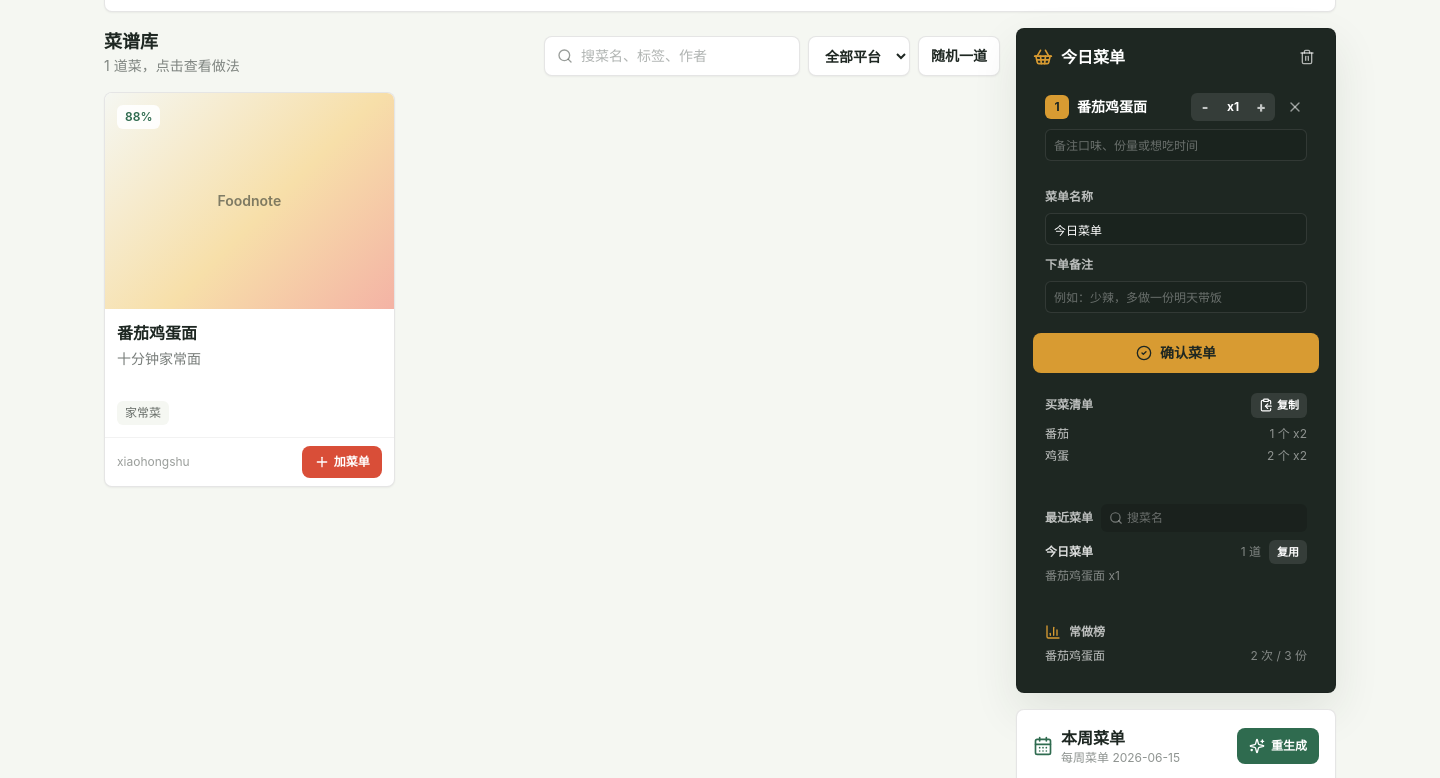
App › copies the shopping list as plain text
The image size is (1440, 778).
(page scrolled)
Expected: the text "鸡蛋" is shown, [1045,448,1069,464]
Click the button with aria-label "复制买菜清单" at (1279, 405), box [1251,393,1307,418]
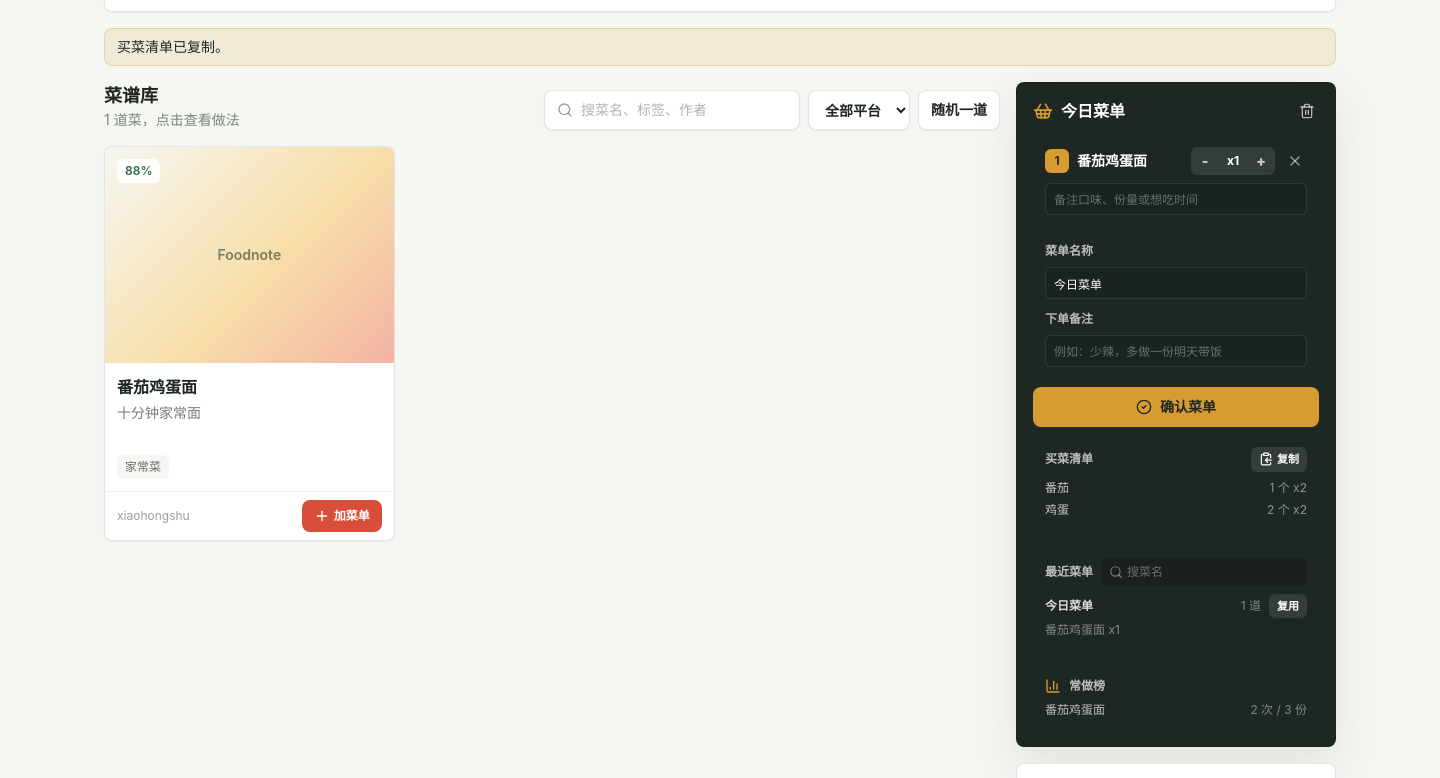
Result: the text "买菜清单已复制。" is shown at [104,28,1336,66]
